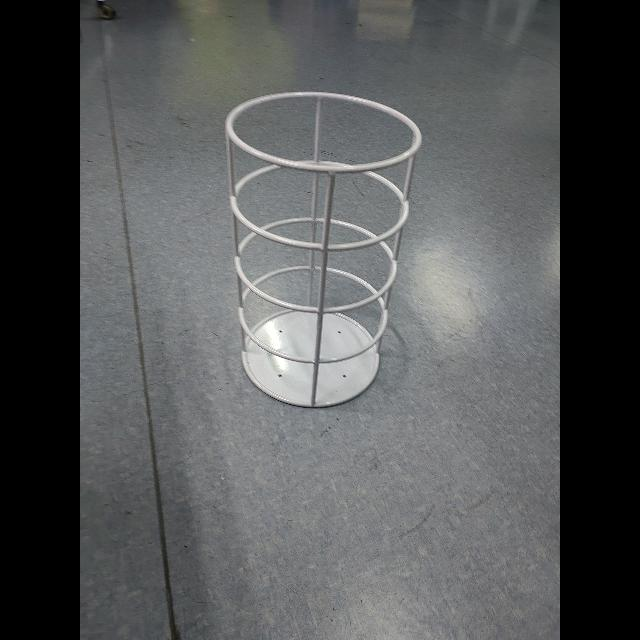S: (221, 87, 424, 413)
